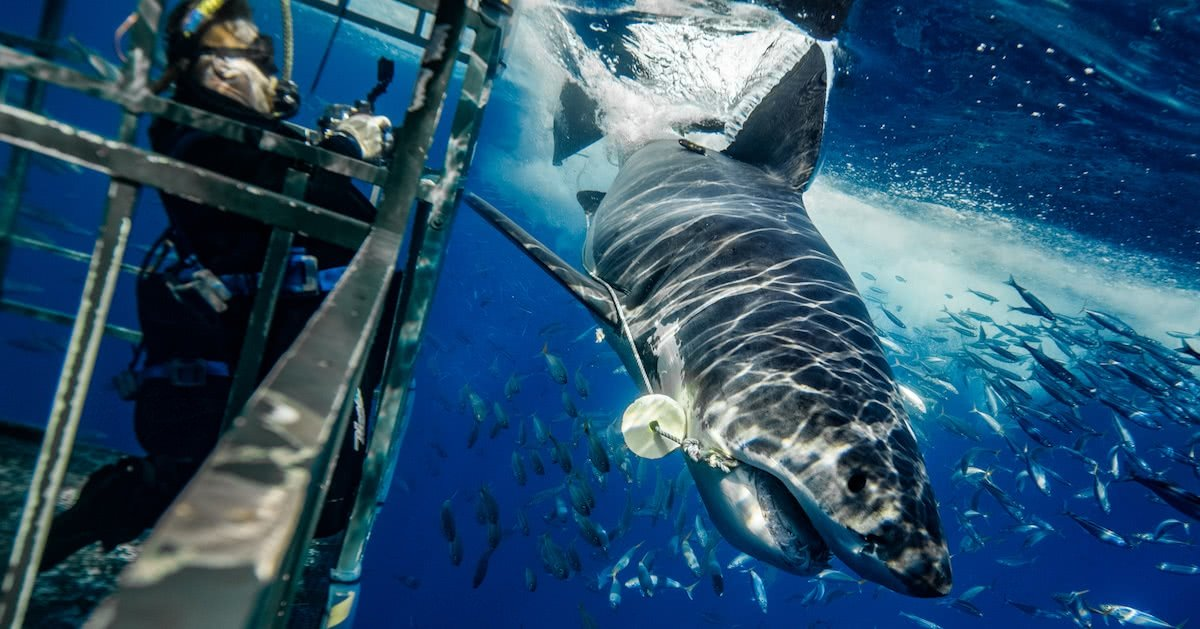shark: (452, 35, 962, 602)
